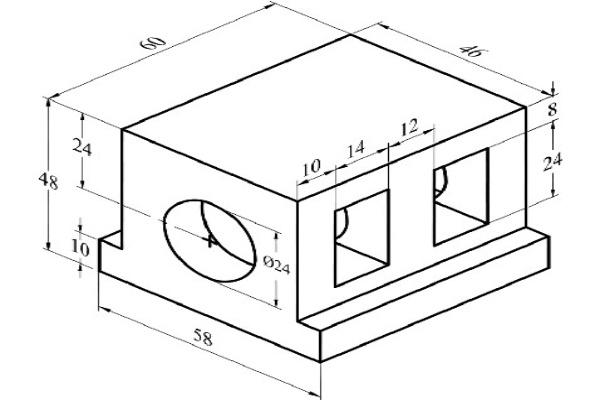dimensions: (31, 165, 65, 194), (189, 323, 221, 352), (457, 37, 491, 64), (132, 32, 169, 56), (66, 134, 98, 161), (538, 149, 571, 175), (64, 235, 95, 262), (260, 253, 295, 275), (343, 136, 372, 160), (301, 156, 327, 180), (398, 116, 422, 141), (543, 101, 563, 122)
